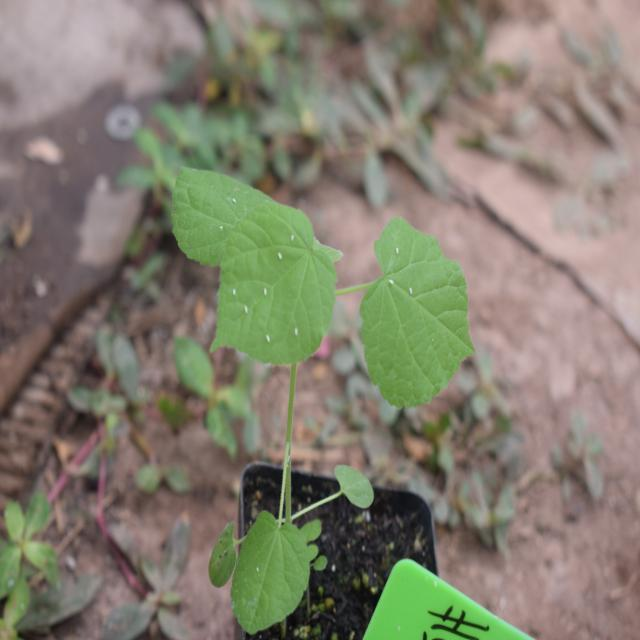abutilon theophrasti: (170, 146, 466, 510)
